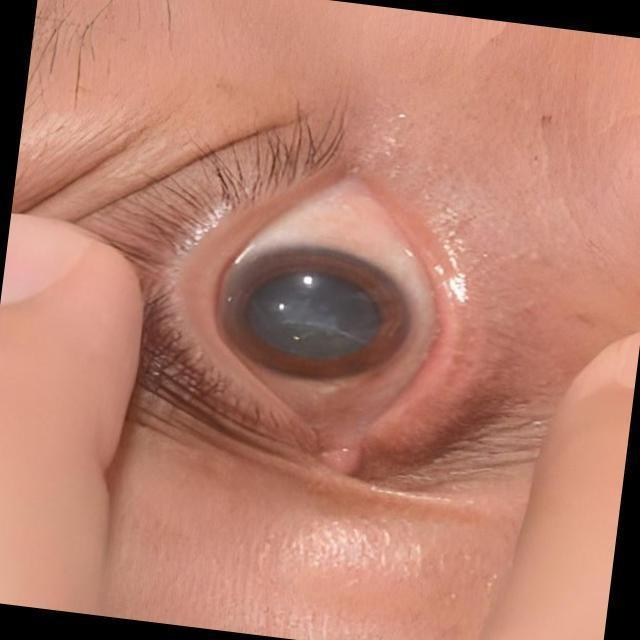Cataract: (216, 242, 419, 388)
